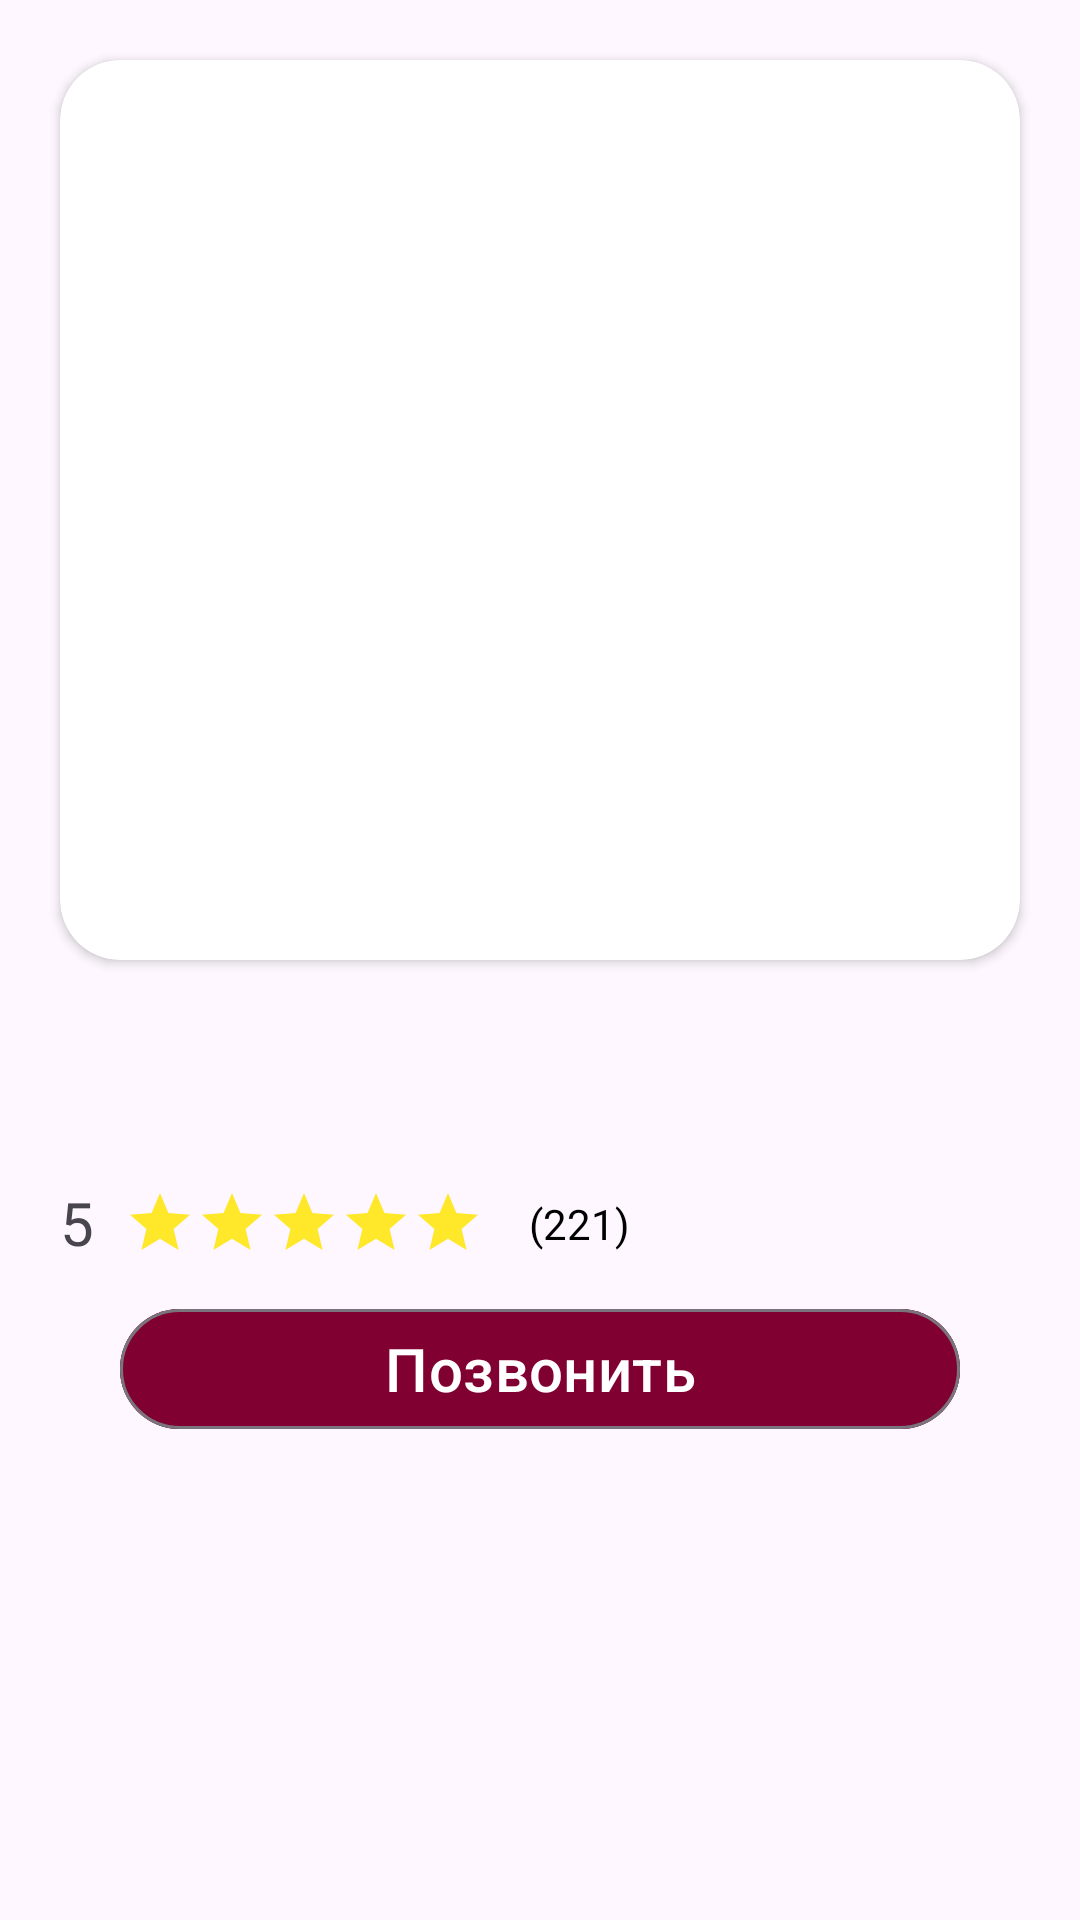

Icon click points for this 1080 x 1920 phone screenshot, format (x,y):
star: (160,1221), (232,1221), (304,1221), (376,1221), (448,1221)
